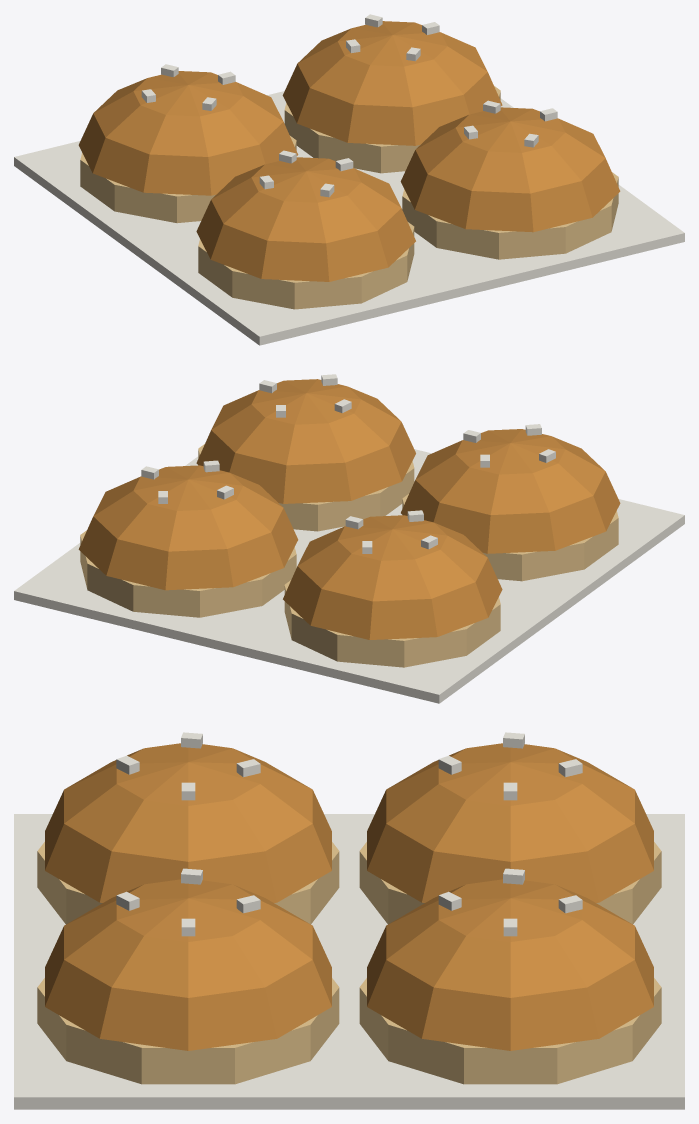
The model's file is g-buns.glb.
The picture shows the model from 3 angles, top to bottom: view 1: azimuth 30°, elevation 25°; view 2: azimuth 150°, elevation 25°; view 3: azimuth 270°, elevation 25°; orthographic projection. The views are drawn at different scales.
Parts seen in each view (by area): view 1: g_buns; view 2: g_buns; view 3: g_buns.
Part boxes in pixels (<box>): g_buns: <box>14,14,684,345</box>; g_buns: <box>14,374,684,703</box>; g_buns: <box>14,732,684,1109</box>.
Bounding box in the file's own units: 0.2 × 0.0455 × 0.2.
